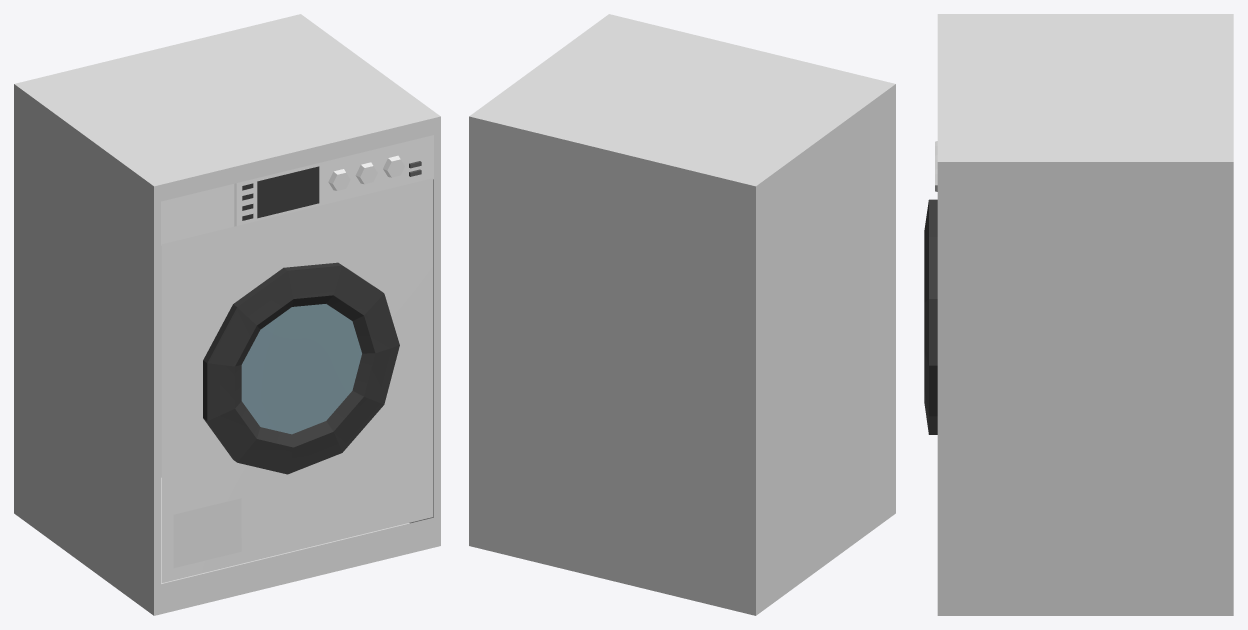
The model's file is washing_machine_001.glb.
3 renders of one model, left to right at view 1: azimuth 30°, elevation 25°; view 2: azimuth 150°, elevation 25°; view 3: azimuth 270°, elevation 25°, orthographic. The views are drawn at different scales.
Visible parts, largest first — view 1: washing_machine_001; view 2: washing_machine_001; view 3: washing_machine_001.
Boxes of the visible parts, <box> form: washing_machine_001: <box>14,14,440,615</box>; washing_machine_001: <box>469,14,895,615</box>; washing_machine_001: <box>924,14,1233,615</box>.
Size of the model in its own units: 0.5985 by 0.8567 by 0.5289.
1 material, 1 textured.
